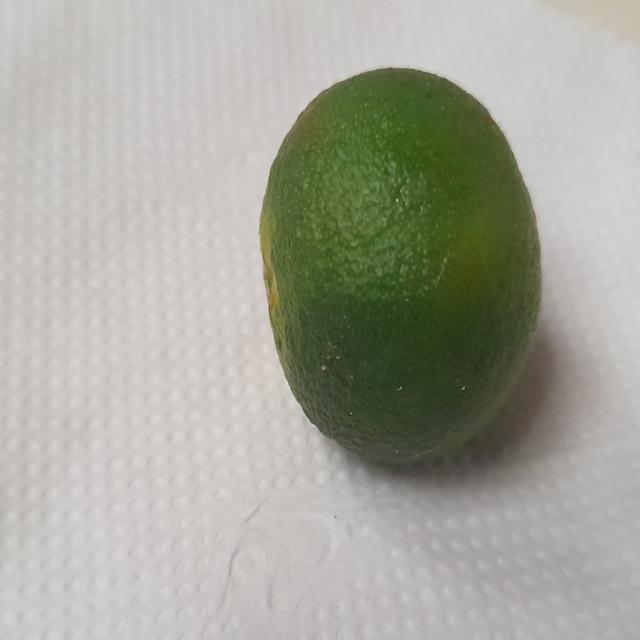heathy: (246, 61, 555, 482)
